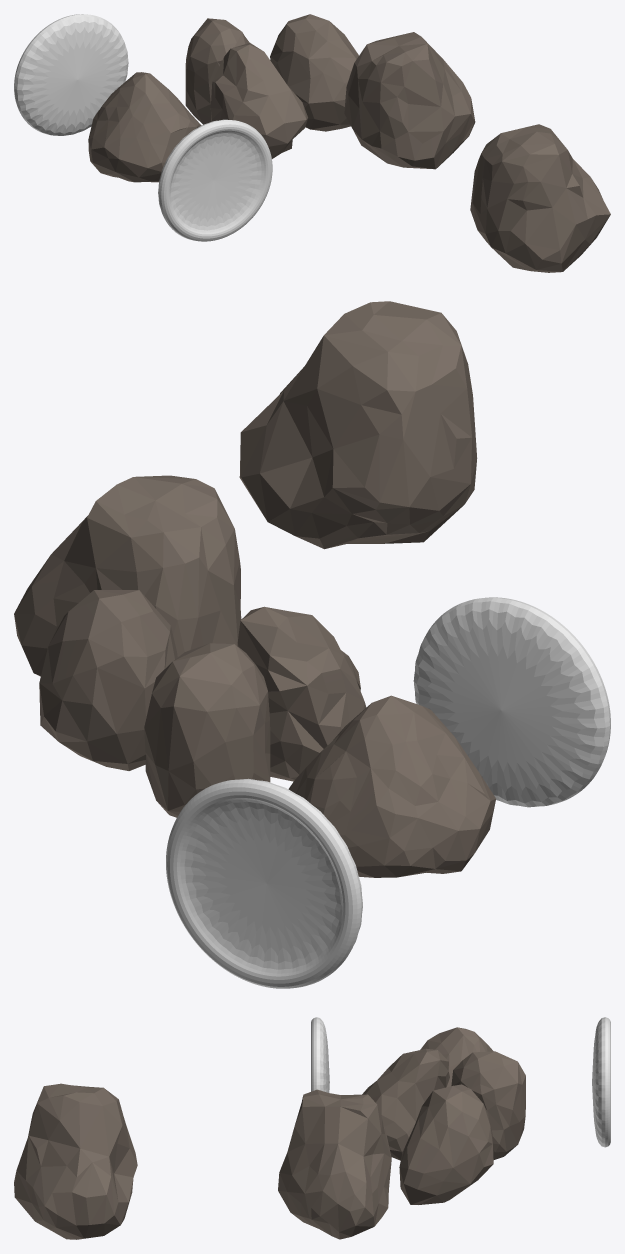
File: rock1.fbx
The picture shows the model from 3 angles, top to bottom: view 1: azimuth 30°, elevation 25°; view 2: azimuth 150°, elevation 25°; view 3: azimuth 270°, elevation 25°; orthographic projection. The views are drawn at different scales.
Visible parts, largest first — view 1: Cylinder.001, rock3, rock1, rock2; view 2: Cylinder.001, rock1, rock2, rock3; view 3: rock3, rock2, rock1, Cylinder.001.
Part boxes in pixels (box(x1,y1,x2,y2)): Cylinder.001: box(14, 14, 272, 241); rock3: box(270, 14, 475, 169); rock1: box(88, 18, 307, 182); rock2: box(470, 124, 610, 272); Cylinder.001: box(166, 597, 610, 988); rock1: box(144, 606, 495, 877); rock2: box(239, 301, 477, 549); rock3: box(14, 475, 241, 770); rock3: box(278, 1084, 493, 1239); rock2: box(14, 1083, 137, 1239); rock1: box(362, 1027, 525, 1160); Cylinder.001: box(311, 1017, 610, 1147).
Bounding box in the file's own units: 310 × 135 × 493.
